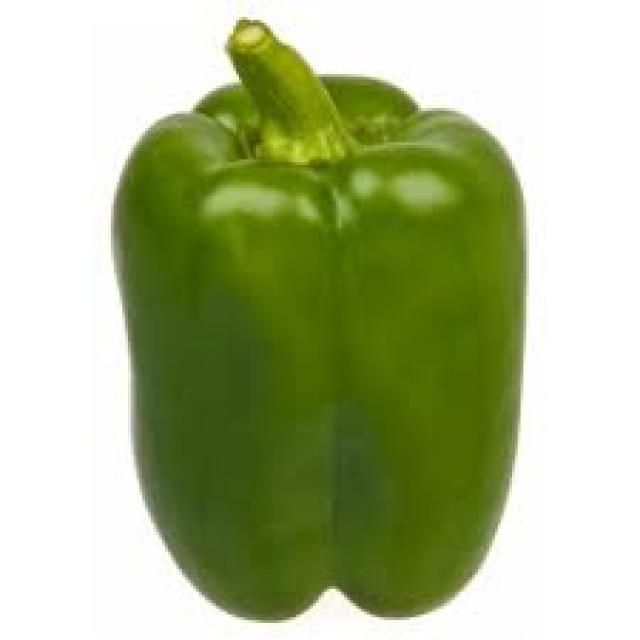organic waste: (111, 14, 523, 617)
